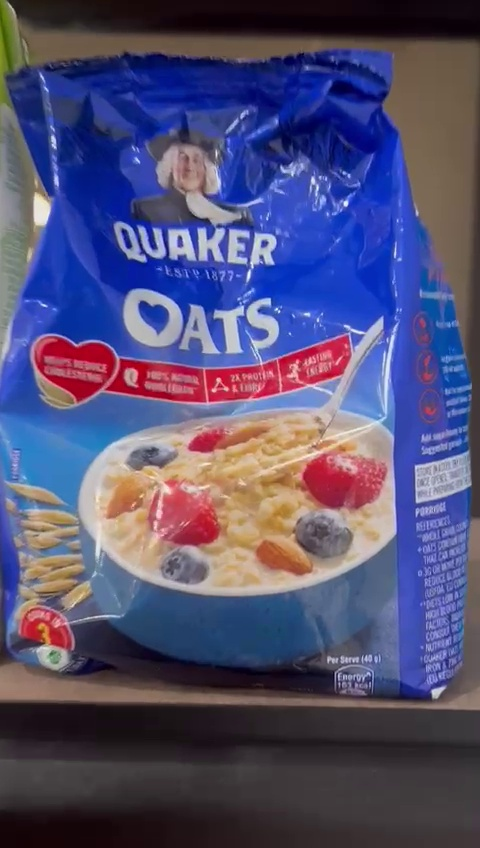Quaker Oats: (4, 53, 480, 701)
